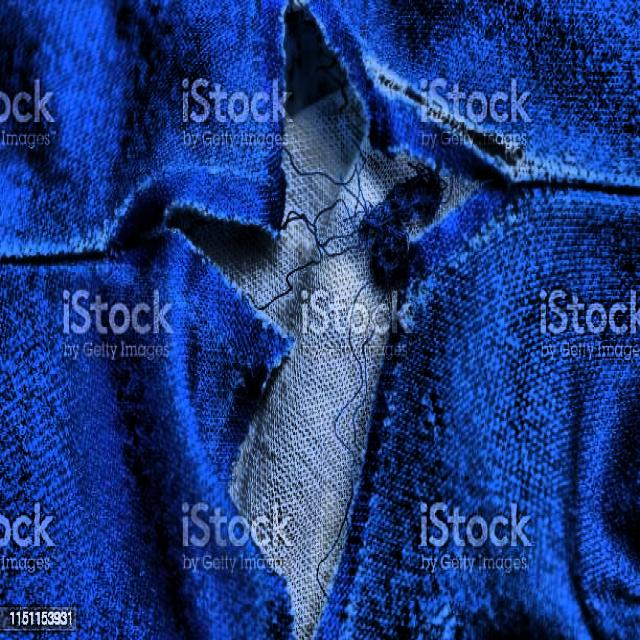seam: (98, 0, 534, 640)
